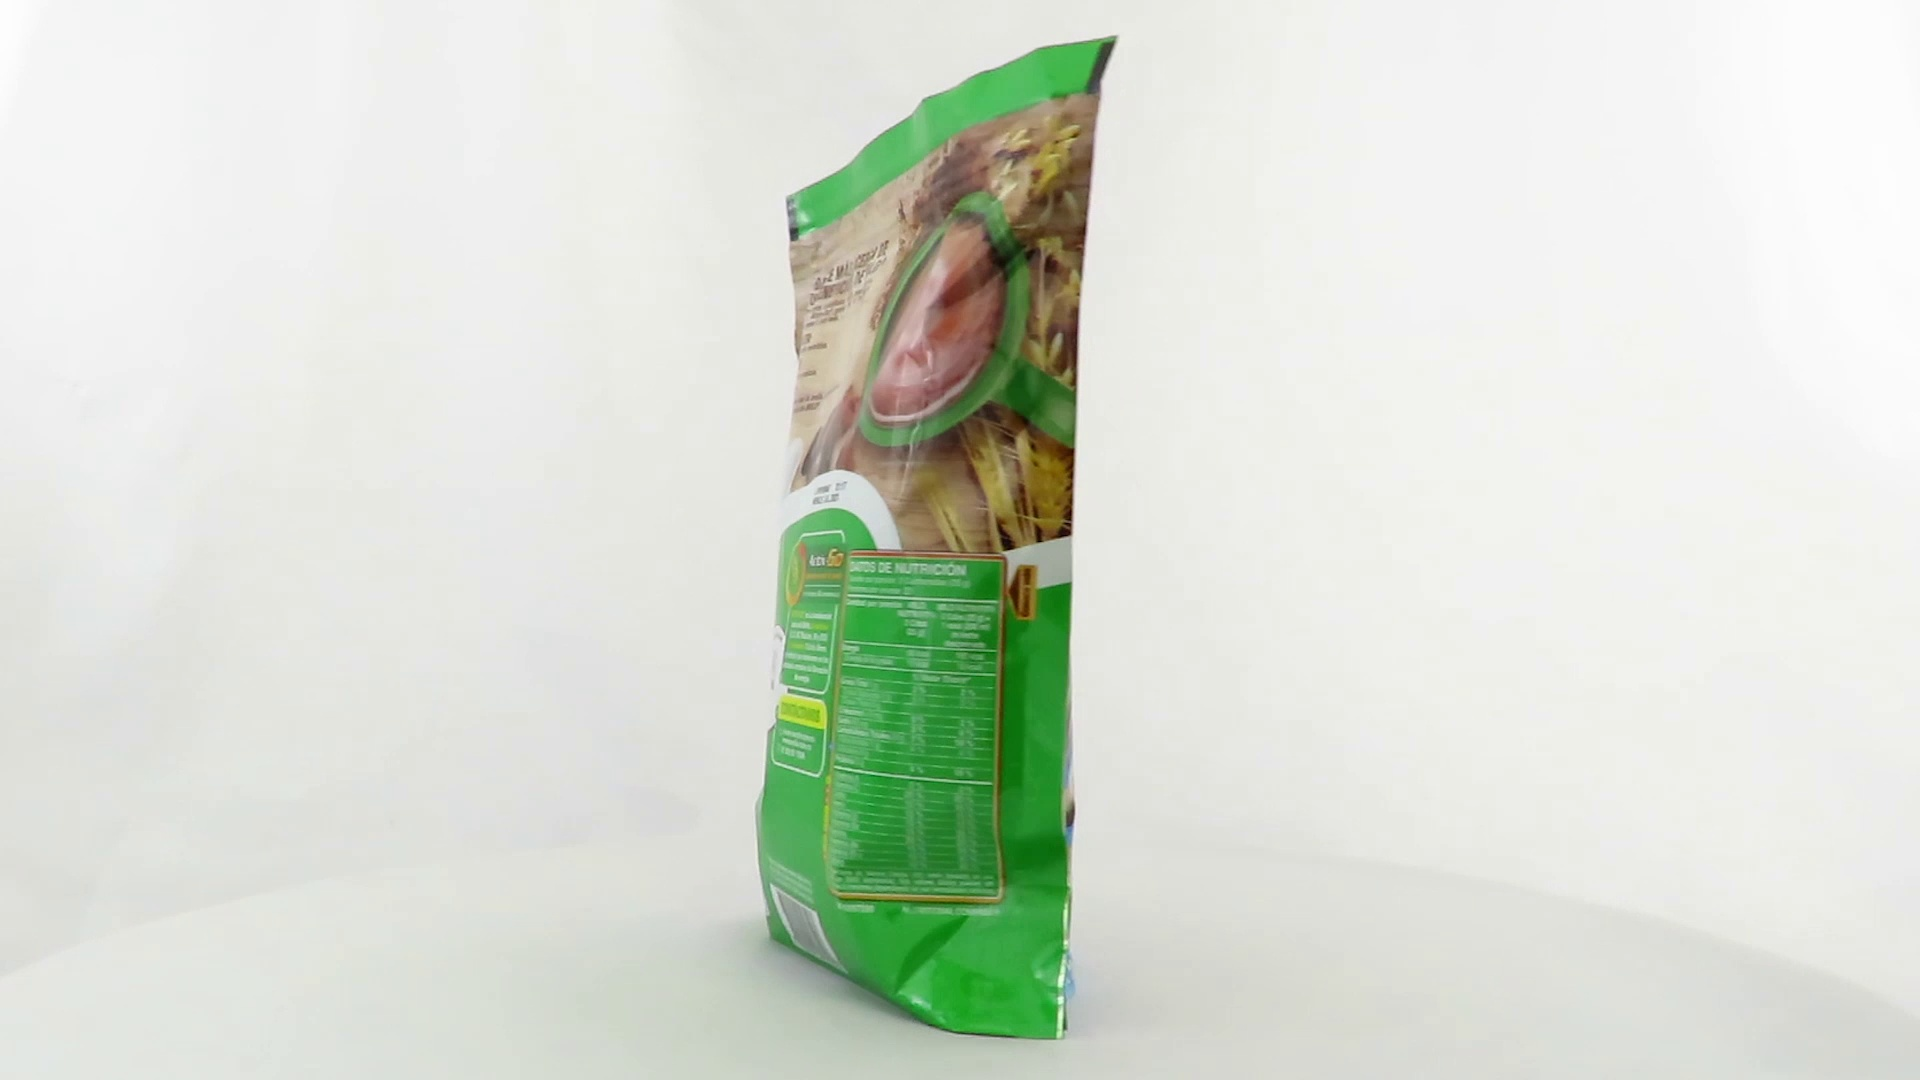COL0170205DYP50000: (749, 30, 1124, 1047)
